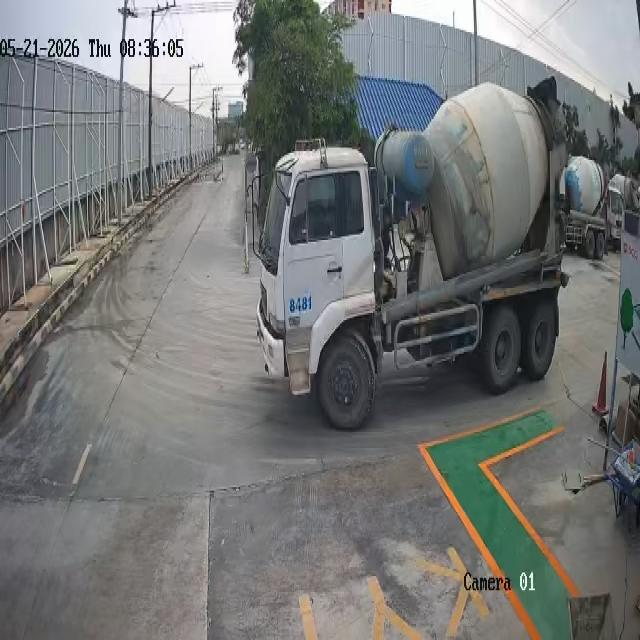cement_mixer_truck: (254, 76, 567, 428), (564, 150, 613, 265), (613, 169, 640, 207), (609, 182, 625, 240)
